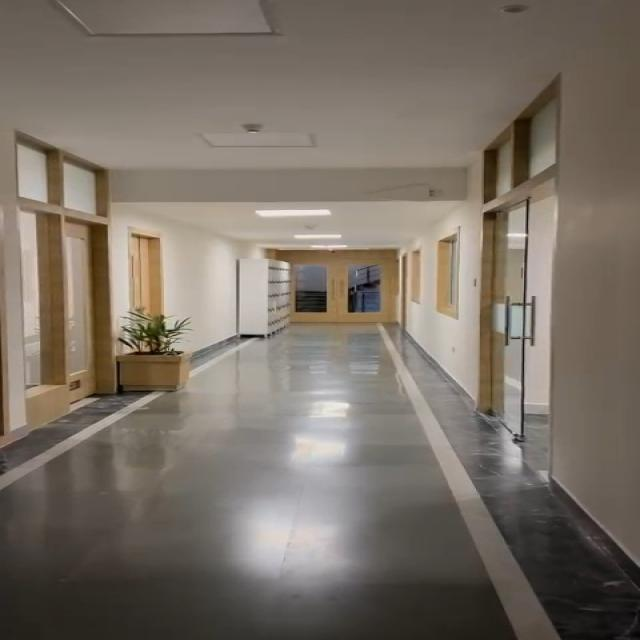door: (459, 115, 577, 440), (3, 129, 123, 445), (275, 238, 396, 330)
floor: (185, 320, 477, 640)
furniture: (99, 298, 215, 403)
